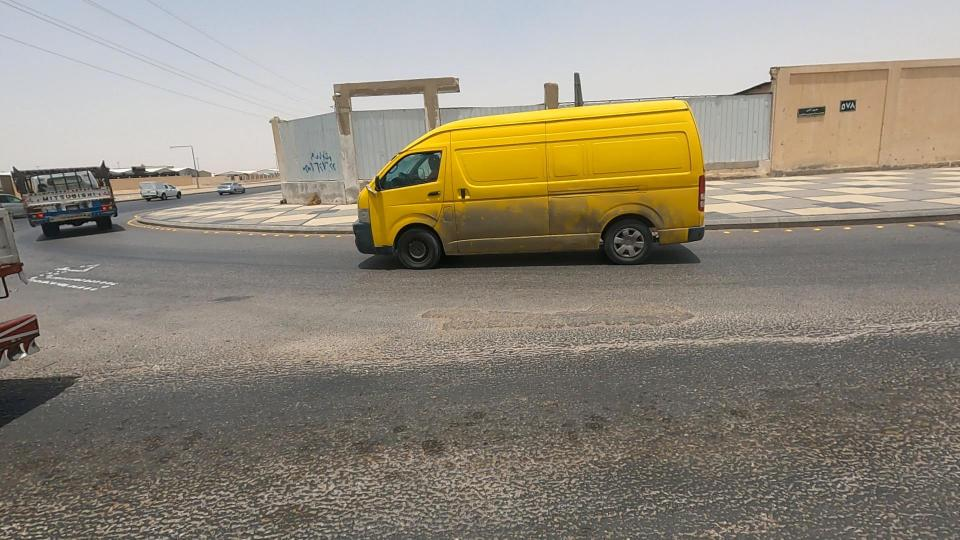GRAFFITI: (266, 119, 375, 206)
